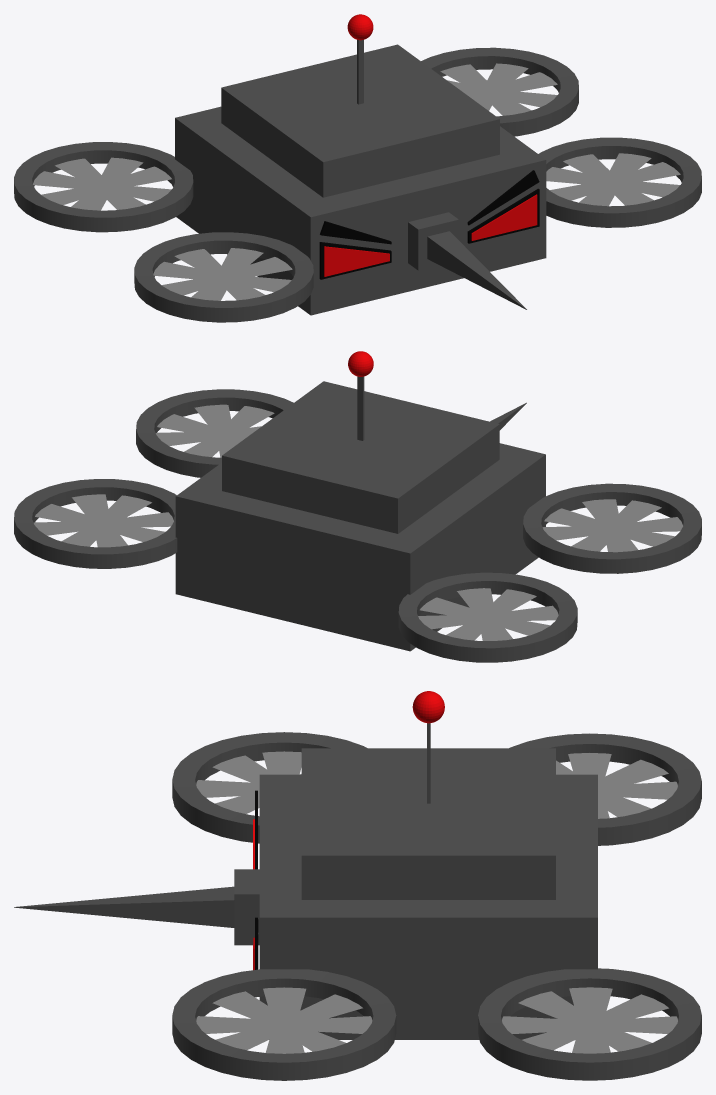
Rendered from enemigo 2.fbx.
The picture shows the model from 3 angles, top to bottom: view 1: azimuth 30°, elevation 25°; view 2: azimuth 150°, elevation 25°; view 3: azimuth 270°, elevation 25°; orthographic projection. The views are drawn at different scales.
Parts seen in each view (by area): view 1: Cube, Circle.002, Circle.003, Circle, Plane.003, Plane.004, Plane.006, Circle.001, Plane.005, Plane.002, Plane.001, Plane (+1 smaller); view 2: Cube, Circle.002, Circle.003, Circle.001, Plane.003, Circle, Plane.004, Plane.005, Plane.006, Sphere, Cube.001; view 3: Cube, Circle, Circle.001, Plane.006, Plane.005, Circle.003, Circle.002, Plane.003, Plane.004, Sphere.
Part boxes in pixels (bbox=[...]): Cube: bbox=[175, 44, 546, 315]; Circle.002: bbox=[134, 232, 313, 322]; Circle.003: bbox=[14, 142, 193, 232]; Circle: bbox=[538, 137, 701, 227]; Plane.003: bbox=[33, 157, 171, 210]; Plane.004: bbox=[153, 248, 292, 300]; Plane.006: bbox=[546, 153, 680, 206]; Circle.001: bbox=[421, 47, 578, 136]; Plane.005: bbox=[440, 63, 557, 115]; Plane.002: bbox=[324, 194, 537, 276]; Plane.001: bbox=[320, 170, 539, 244]; Plane: bbox=[319, 188, 539, 279]; Cube: bbox=[175, 381, 545, 651]; Circle.002: bbox=[523, 483, 701, 573]; Circle.003: bbox=[398, 572, 577, 662]; Circle.001: bbox=[14, 479, 177, 568]; Plane.003: bbox=[418, 588, 558, 640]; Circle: bbox=[136, 389, 293, 477]; Plane.004: bbox=[542, 499, 682, 552]; Plane.005: bbox=[34, 494, 173, 547]; Plane.006: bbox=[156, 404, 274, 457]; Sphere: bbox=[348, 351, 373, 376]; Cube.001: bbox=[357, 376, 364, 440]; Cube: bbox=[14, 748, 597, 1039]; Circle: bbox=[172, 969, 396, 1080]; Circle.001: bbox=[478, 968, 701, 1080]; Plane.006: bbox=[196, 987, 372, 1053]; Plane.005: bbox=[502, 987, 677, 1053]; Circle.003: bbox=[509, 733, 701, 845]; Circle.002: bbox=[172, 732, 367, 843]; Plane.003: bbox=[556, 753, 677, 818]; Plane.004: bbox=[196, 751, 301, 813]; Sphere: bbox=[412, 691, 444, 723].
Bounding box in the file's own units: 462 × 180 × 406.
